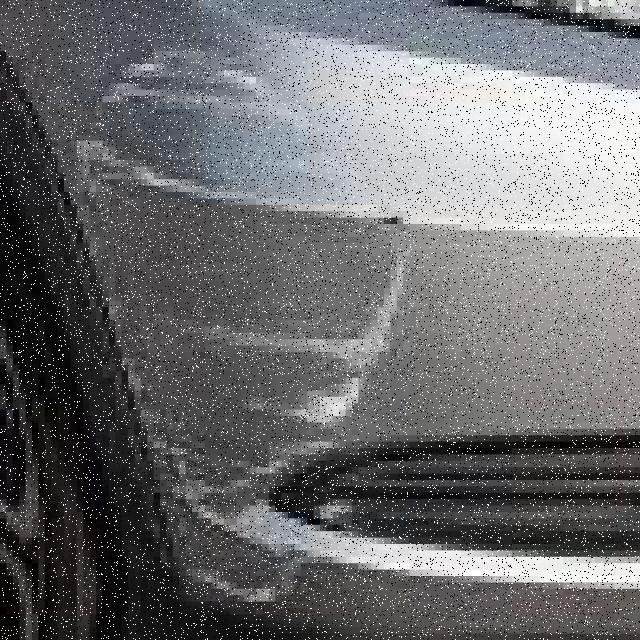front-bumper-dent: (0, 19, 634, 639)
